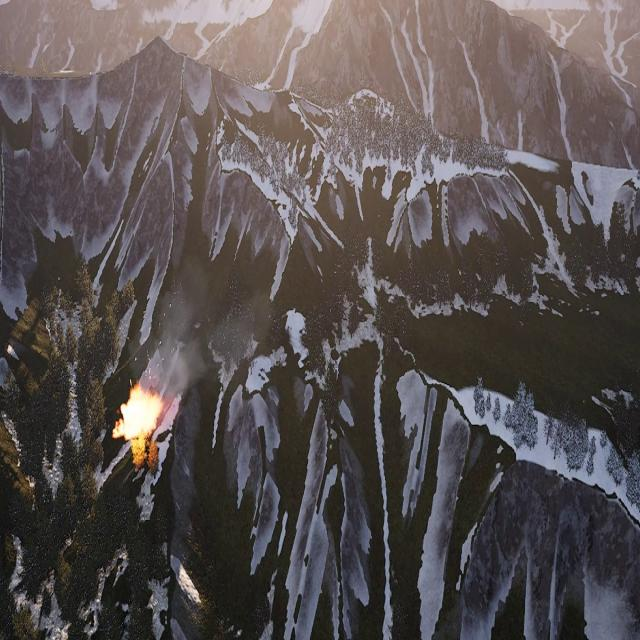fire: (115, 386, 162, 448)
smoke: (145, 267, 265, 401)
